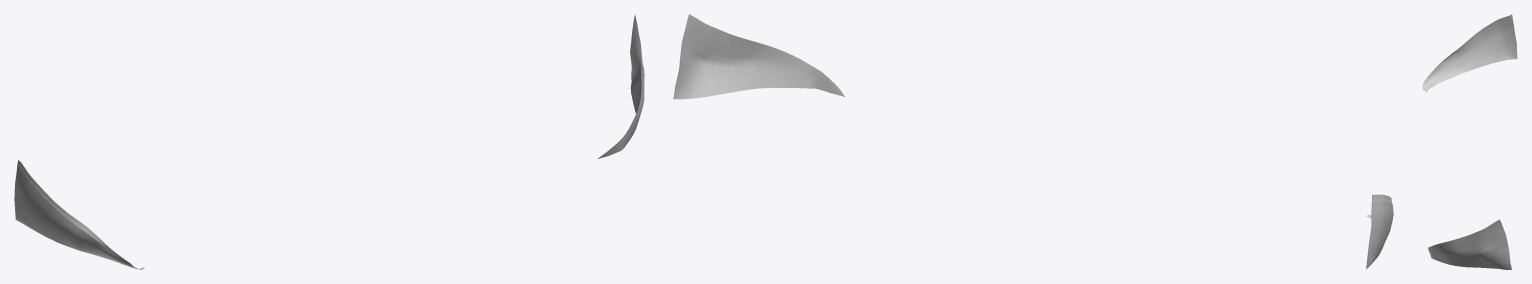
File: Pants_COP_Knee_Face.glb
3 renders of one model, left to right at view 1: azimuth 30°, elevation 25°; view 2: azimuth 150°, elevation 25°; view 3: azimuth 270°, elevation 25°, orthographic. The views are drawn at different scales.
Visible parts, largest first — view 1: Pants_COP_Knee_Face1; view 2: Pants_COP_Knee_Face1; view 3: Pants_COP_Knee_Face1, Rope1.
Boxes of the visible parts, x1=… form: Pants_COP_Knee_Face1: x1=14, y1=15, x2=644, y2=269; Pants_COP_Knee_Face1: x1=673, y1=14, x2=1393, y2=269; Pants_COP_Knee_Face1: x1=1422, y1=14, x2=1517, y2=269; Rope1: x1=1429, y1=221, x2=1500, y2=247.
Size of the model in its own units: 0.8113 by 0.1105 by 0.1549.
Materials: 2 (2 with a texture image).
